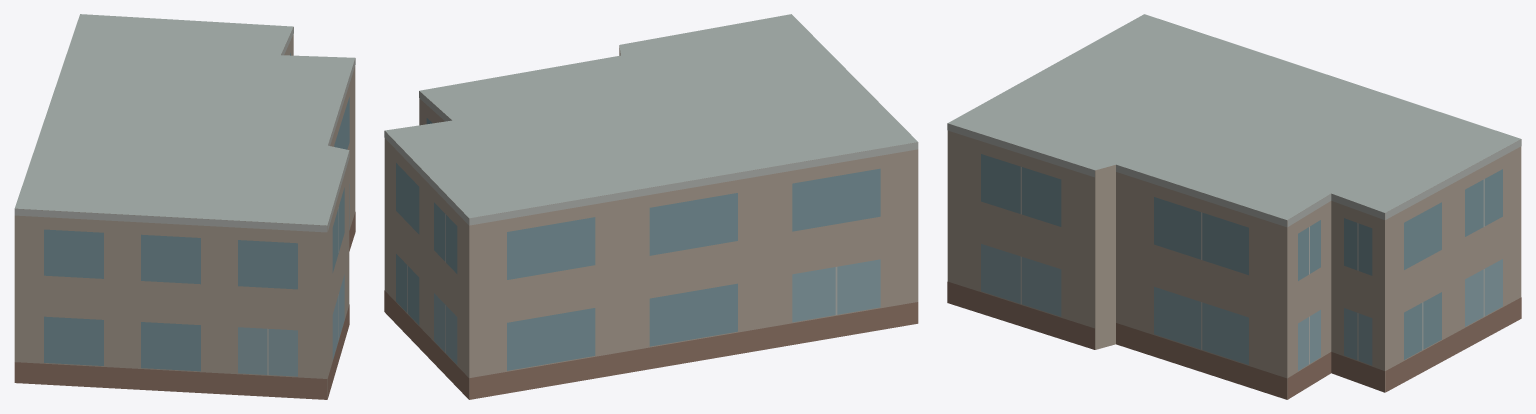
The model's file is survey-upis-32930586.glb.
3 views of the same model, side by side, from view 1: azimuth 30°, elevation 25°; view 2: azimuth 150°, elevation 25°; view 3: azimuth 270°, elevation 25° (orthographic). The views are drawn at different scales.
Parts seen in each view (by area): view 1: survey-upis-32930586.tmp; view 2: survey-upis-32930586.tmp; view 3: survey-upis-32930586.tmp.
Boxes of the visible parts, <box> form: survey-upis-32930586.tmp: <box>14,14,355,399</box>; survey-upis-32930586.tmp: <box>384,14,918,399</box>; survey-upis-32930586.tmp: <box>947,14,1521,399</box>.
Size of the model in its own units: 15.03 by 6.1 by 17.67.
